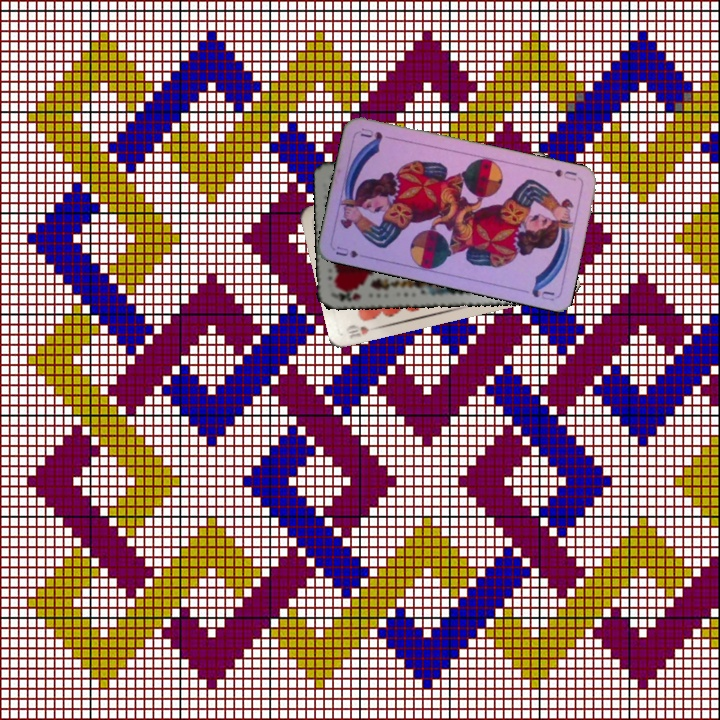H10: (342, 321, 382, 341)
HK: (332, 285, 363, 304)
SU: (550, 165, 579, 184), (332, 242, 361, 260)
